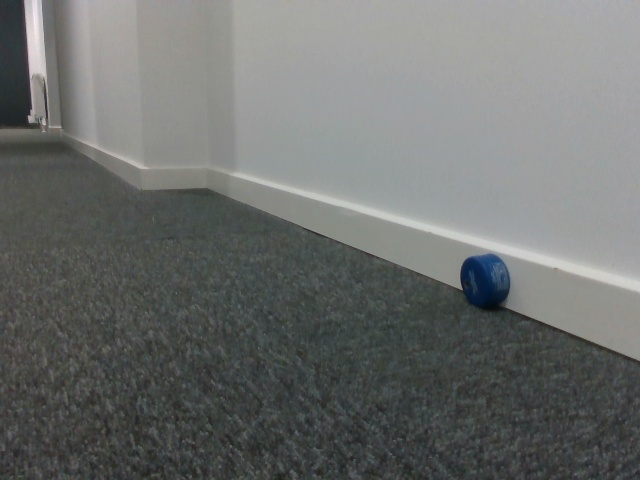alfa: (459, 250, 512, 311)
